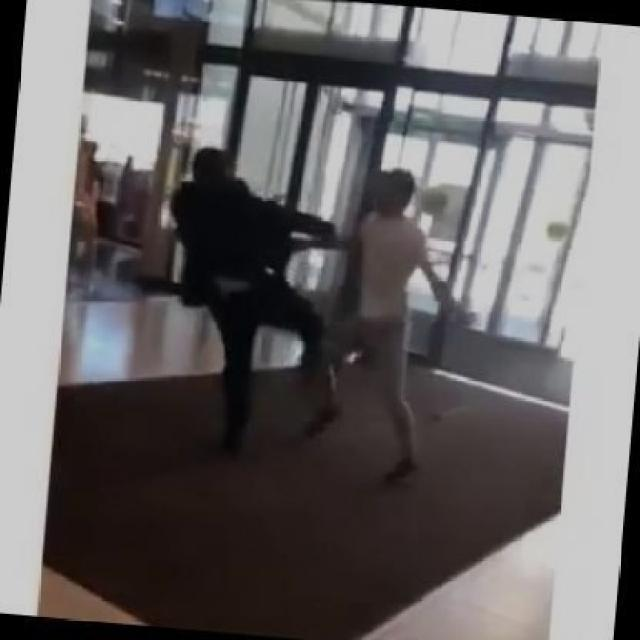fight: (137, 121, 466, 492)
